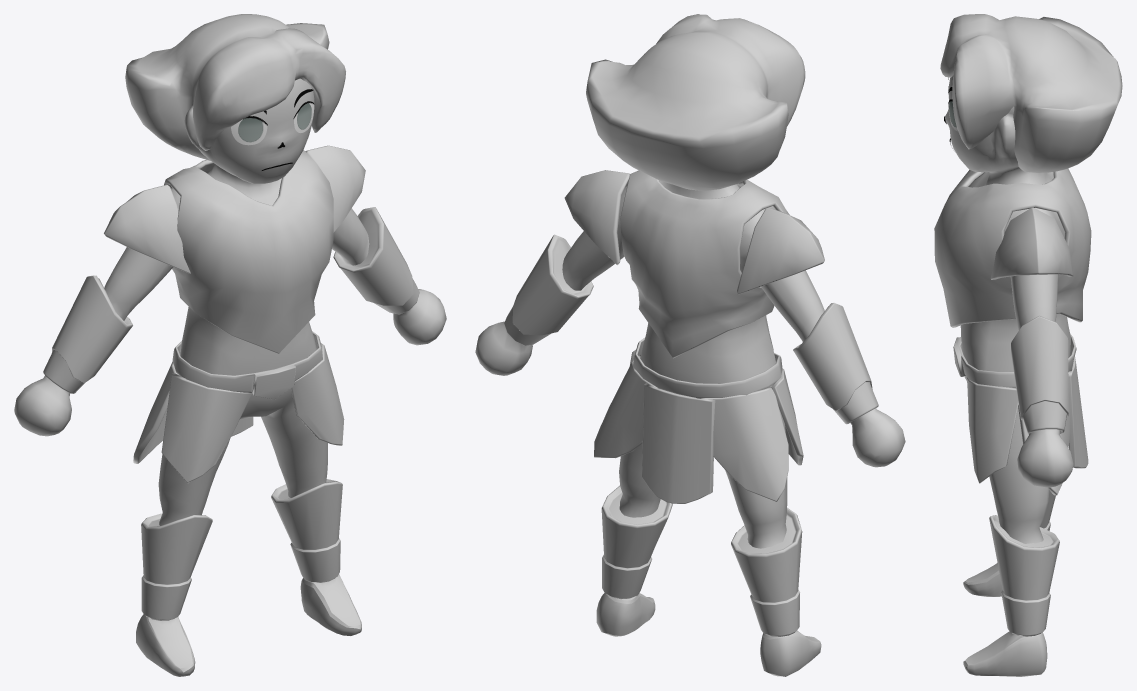
Rendered from Player_Character_v002.fbx.
The picture shows the model from 3 angles, left to right: view 1: azimuth 30°, elevation 25°; view 2: azimuth 150°, elevation 25°; view 3: azimuth 270°, elevation 25°; orthographic projection.
Visible parts, largest first — view 1: Anatomy_LOW, Breastplate, Hair_LOW, Grieves, Bracers, Tassets_Front, Spaulders, Belt, FaceMesh, Tassets_Back; view 2: Hair_LOW, Anatomy_LOW, Breastplate, Bracers, Grieves, Tassets_Back, Spaulders, Tasset_Middle_Back, Belt, Tassets_Front; view 3: Hair_LOW, Anatomy_LOW, Breastplate, Bracers, Grieves, Spaulders, Tassets_Front, Tasset_Middle_Back, Belt, Tassets_Back.
Part boxes in pixels (x1,y1,x2,y2): Anatomy_LOW: (14,78,446,676); Breastplate: (164,150,333,353); Hair_LOW: (125,14,345,160); Grieves: (141,479,342,620); Bracers: (43,207,419,393); Tassets_Front: (161,343,344,482); Spaulders: (104,145,365,273); Belt: (172,331,322,399); FaceMesh: (231,89,314,170); Tassets_Back: (133,361,179,463); Hair_LOW: (586,14,805,190); Anatomy_LOW: (475,180,905,676); Breastplate: (620,170,789,358); Bracers: (504,234,878,424); Grieves: (601,485,802,636); Tassets_Back: (594,354,788,501); Spaulders: (564,170,824,294); Tasset_Middle_Back: (642,383,715,503); Belt: (633,338,782,397); Tassets_Front: (630,349,803,465); Hair_LOW: (940,14,1122,172); Anatomy_LOW: (945,75,1073,676); Breastplate: (934,168,1091,327); Bracers: (1011,316,1068,434); Grieves: (989,490,1059,636); Spaulders: (990,207,1073,279); Tassets_Front: (966,376,1018,483); Tasset_Middle_Back: (1068,356,1088,468); Belt: (953,333,1076,387); Tassets_Back: (1018,369,1072,495).
Bounding box in the file's own units: 97.84 × 136 × 38.04.
